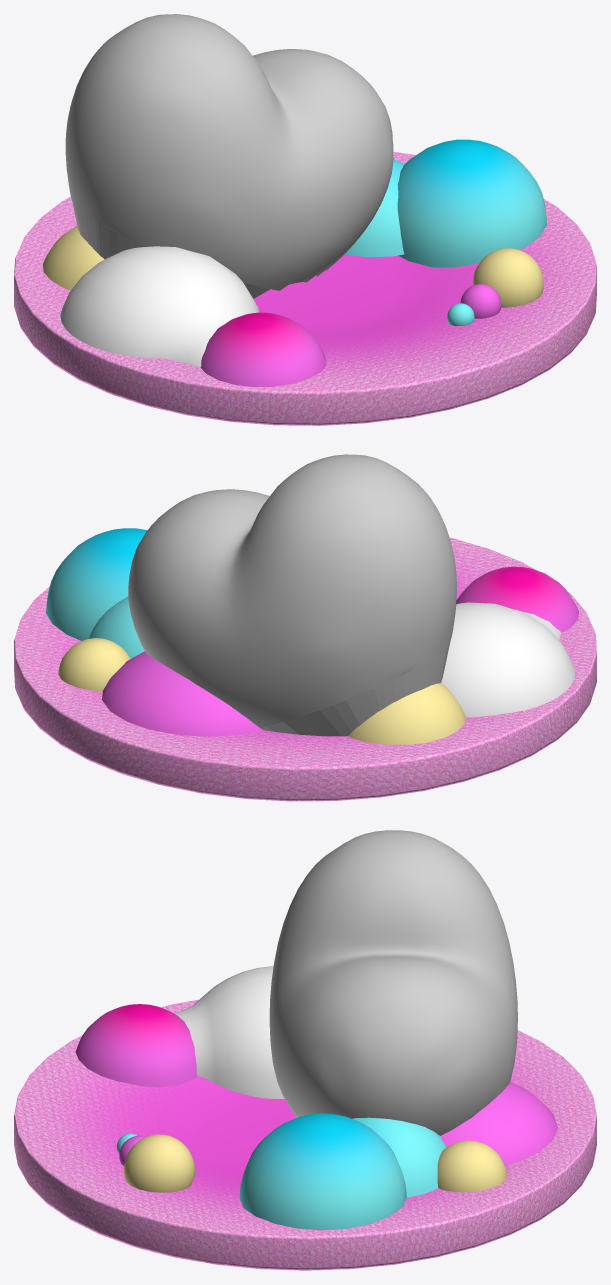
The model's file is Island_Textured.fbx.
3 renders of one model, top to bottom at view 1: azimuth 30°, elevation 25°; view 2: azimuth 150°, elevation 25°; view 3: azimuth 270°, elevation 25°, orthographic.
Parts seen in each view (by area): view 1: Main, Ground, pSphere85, pSphere86, pSphere81, pSphere82, pSphere79, pSphere87, pSphere83; view 2: Main, Ground, pSphere85, pSphere88, pSphere86, pSphere87, pSphere81, pSphere89, pSphere79; view 3: Main, Ground, pSphere86, pSphere85, pSphere81, pSphere88, pSphere79, pSphere82, pSphere89.
Boxes of the visible parts, x1,y1,x2,y2 form: Main: (65, 14, 393, 298); Ground: (14, 151, 596, 425); pSphere85: (60, 246, 259, 367); pSphere86: (397, 139, 547, 267); pSphere81: (200, 312, 326, 387); pSphere82: (473, 248, 543, 307); pSphere79: (344, 160, 405, 257); pSphere87: (43, 226, 104, 290); pSphere83: (460, 284, 501, 318); Main: (128, 454, 456, 736); Ground: (14, 537, 596, 801); pSphere85: (441, 602, 574, 717); pSphere88: (102, 651, 262, 736); pSphere86: (46, 528, 147, 640); pSphere87: (348, 683, 465, 744); pSphere81: (456, 566, 578, 632); pSphere89: (58, 638, 130, 690); pSphere79: (88, 596, 144, 658); Main: (269, 830, 517, 1135); Ground: (14, 999, 596, 1270); pSphere86: (239, 1113, 406, 1230); pSphere85: (174, 966, 284, 1098); pSphere81: (75, 1004, 197, 1087); pSphere88: (440, 1082, 557, 1165); pSphere79: (352, 1117, 446, 1197); pSphere82: (124, 1134, 194, 1192); pSphere89: (437, 1140, 507, 1192).
Bounding box in the file's own units: 16.93 × 8.58 × 16.93.
